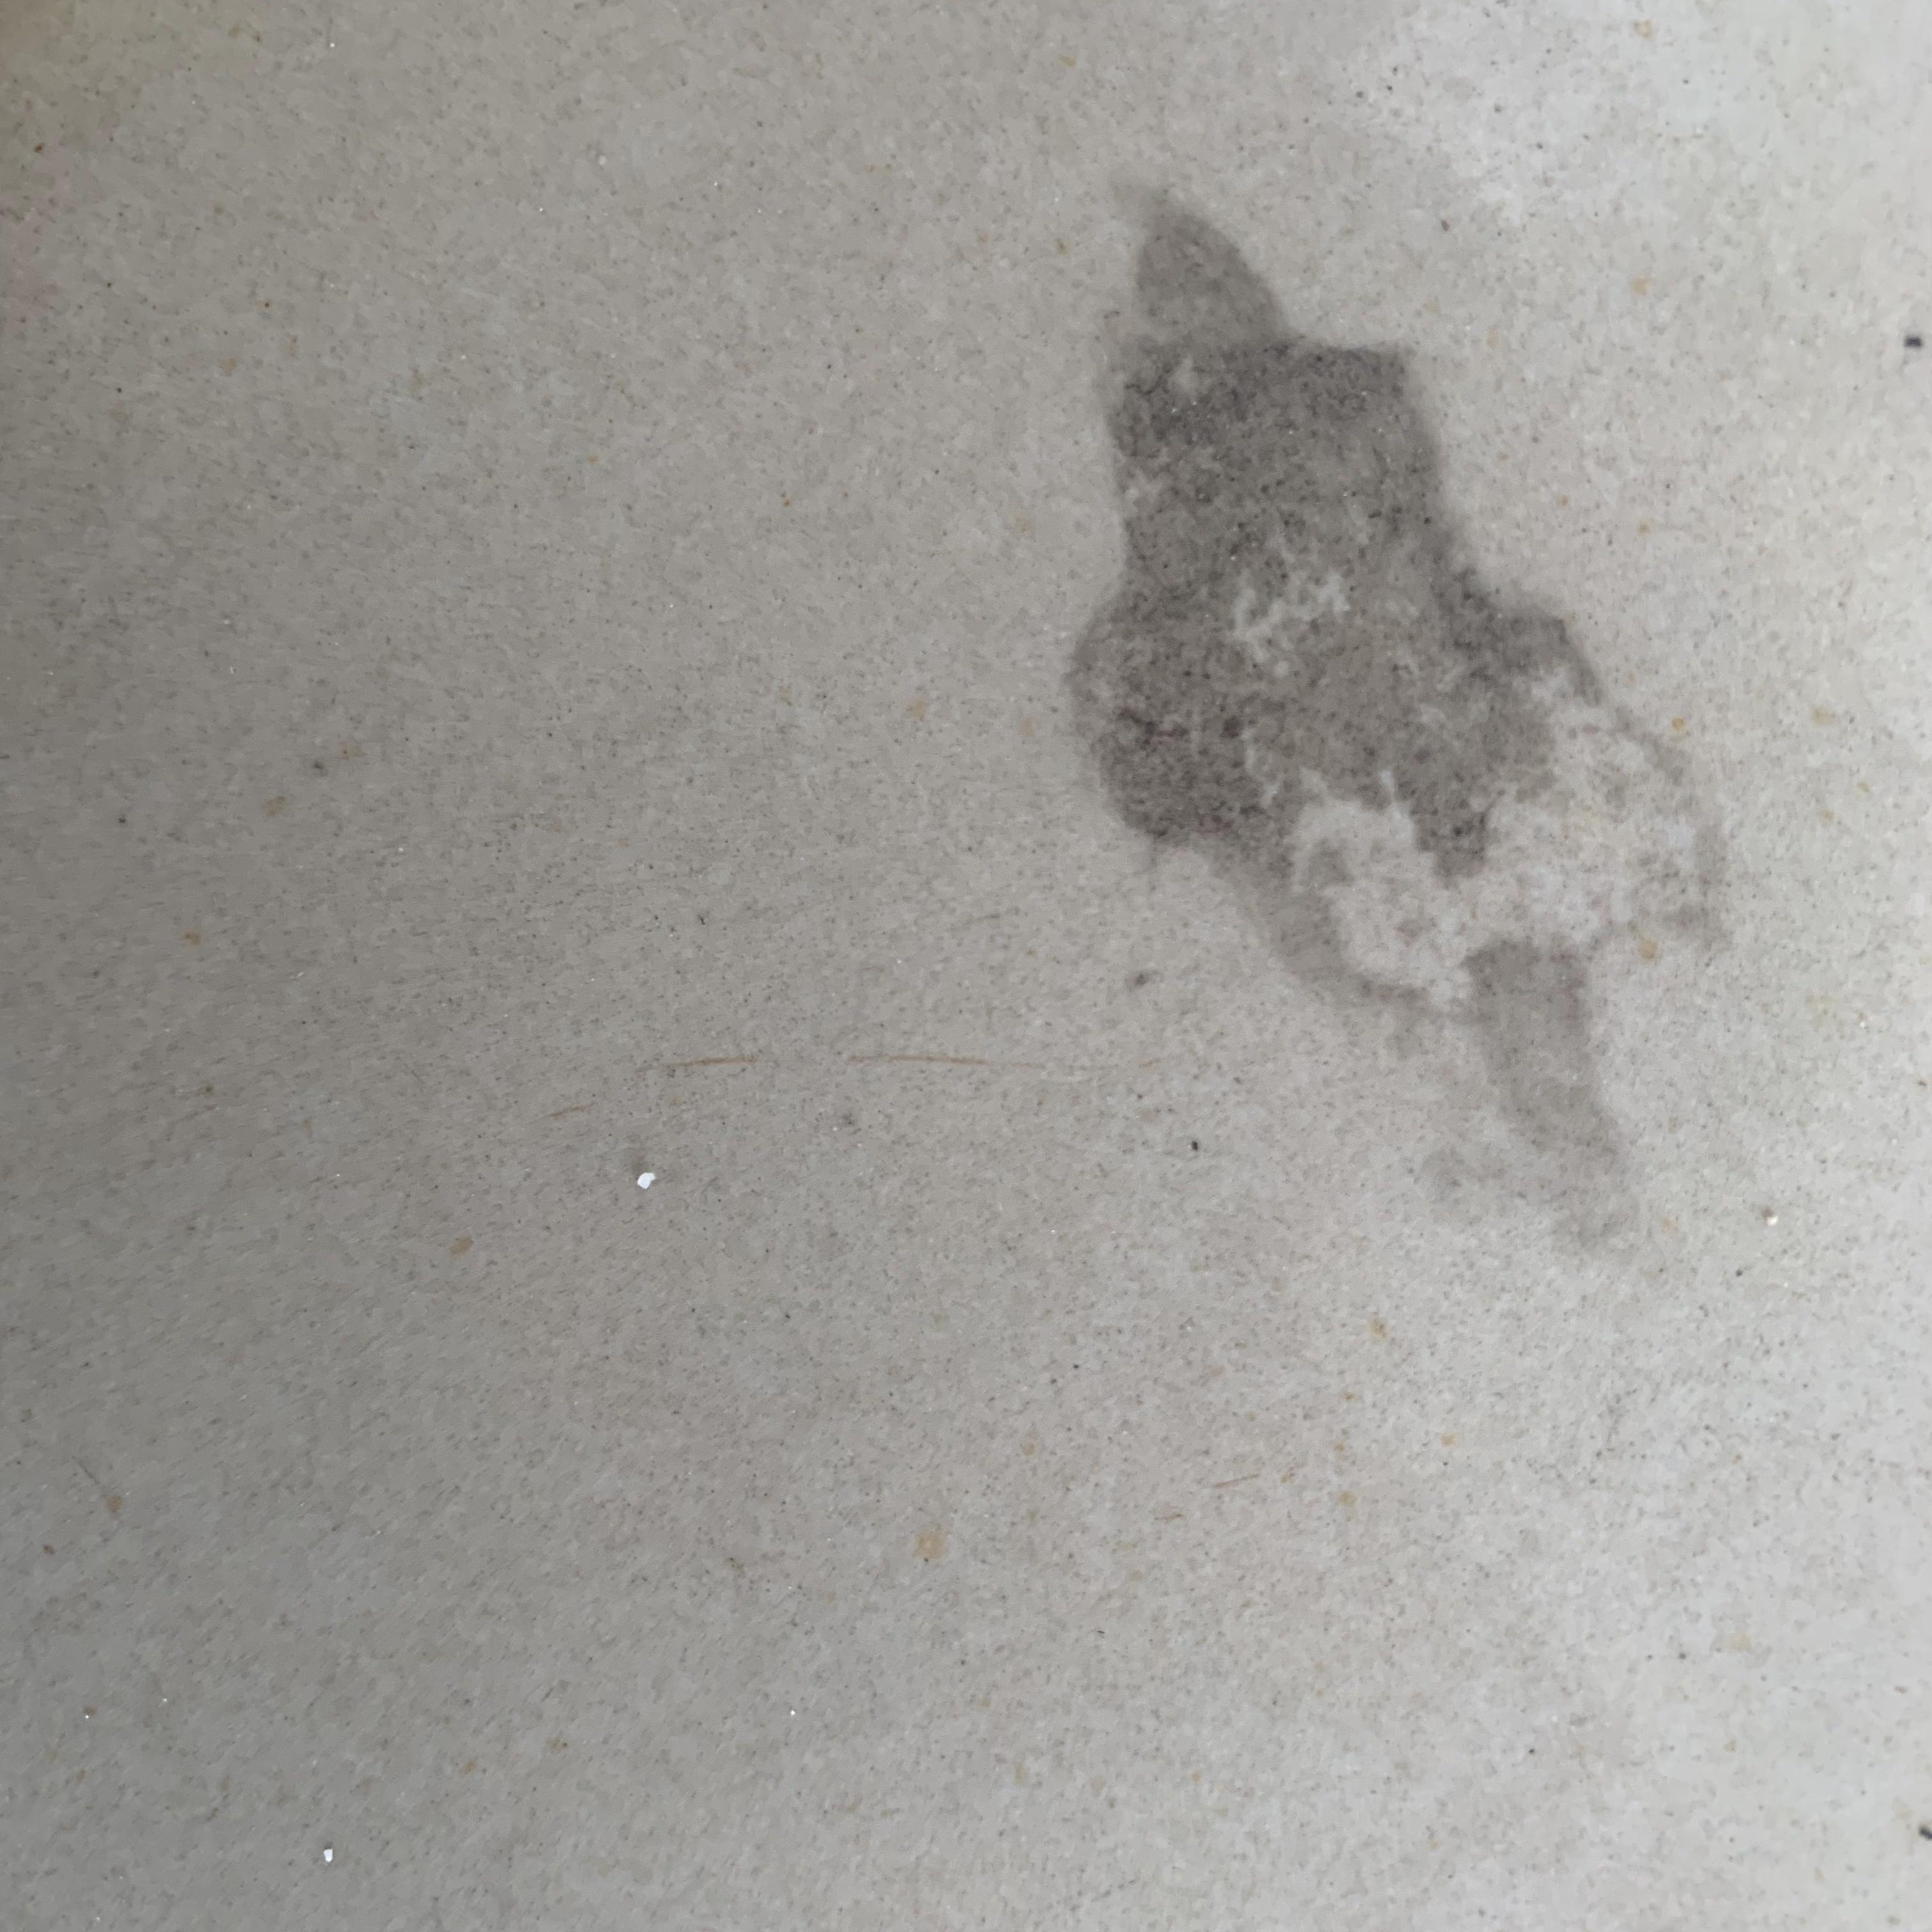grey spot: (1062, 182, 1729, 1270)
